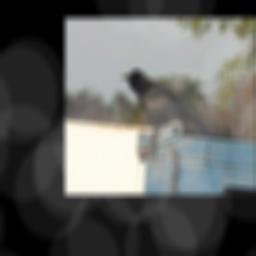Crow: (120, 68, 206, 135)
